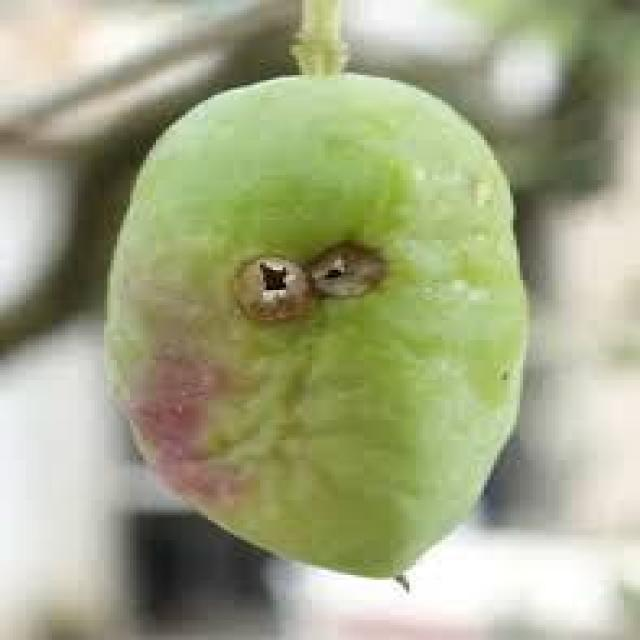Anthracnose: (108, 72, 526, 576)
